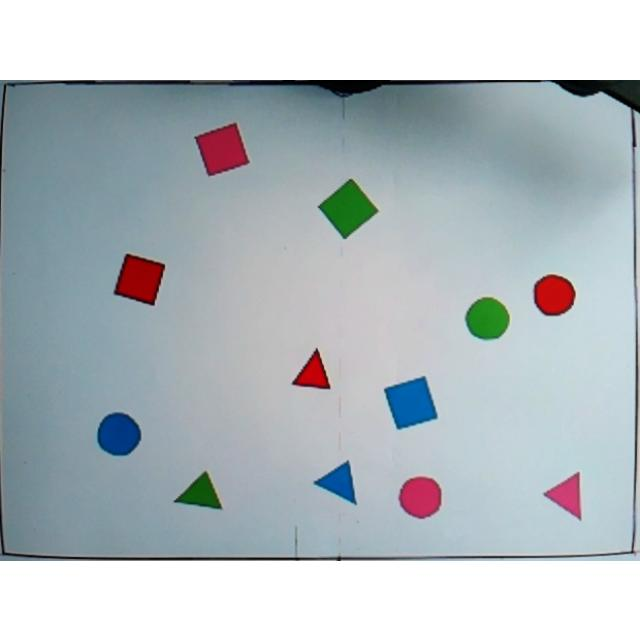blueCircle: (96, 408, 144, 458)
blueSquare: (380, 374, 440, 428)
blueTriangle: (311, 454, 359, 506)
greenCircle: (464, 294, 510, 342)
greenSquare: (314, 173, 380, 240)
greenTriangle: (172, 469, 224, 513)
pinkCircle: (396, 474, 444, 520)
pinkSquare: (193, 120, 250, 176)
pinkTriangle: (542, 470, 586, 522)
redCircle: (532, 272, 576, 316)
redSquare: (112, 250, 168, 306)
redTriangle: (290, 344, 334, 390)
